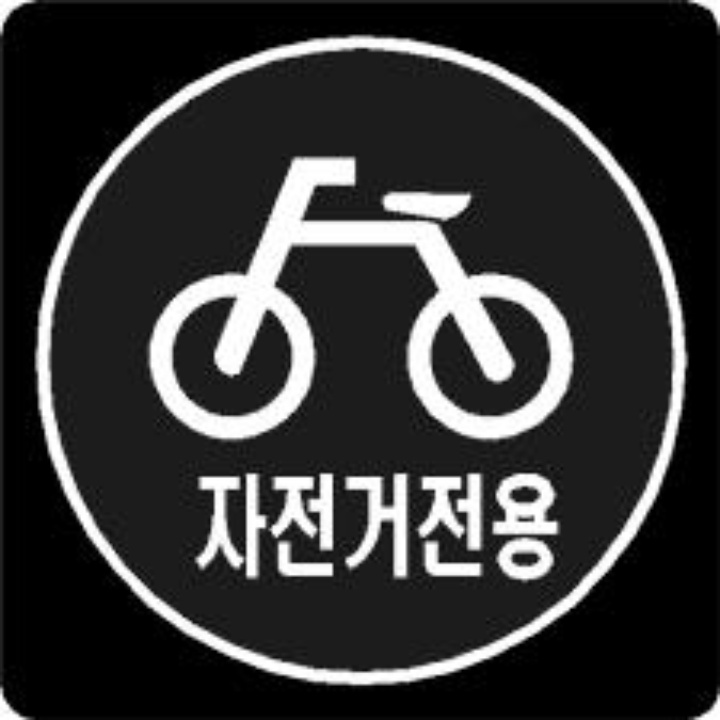bicycle: (143, 132, 601, 459)
